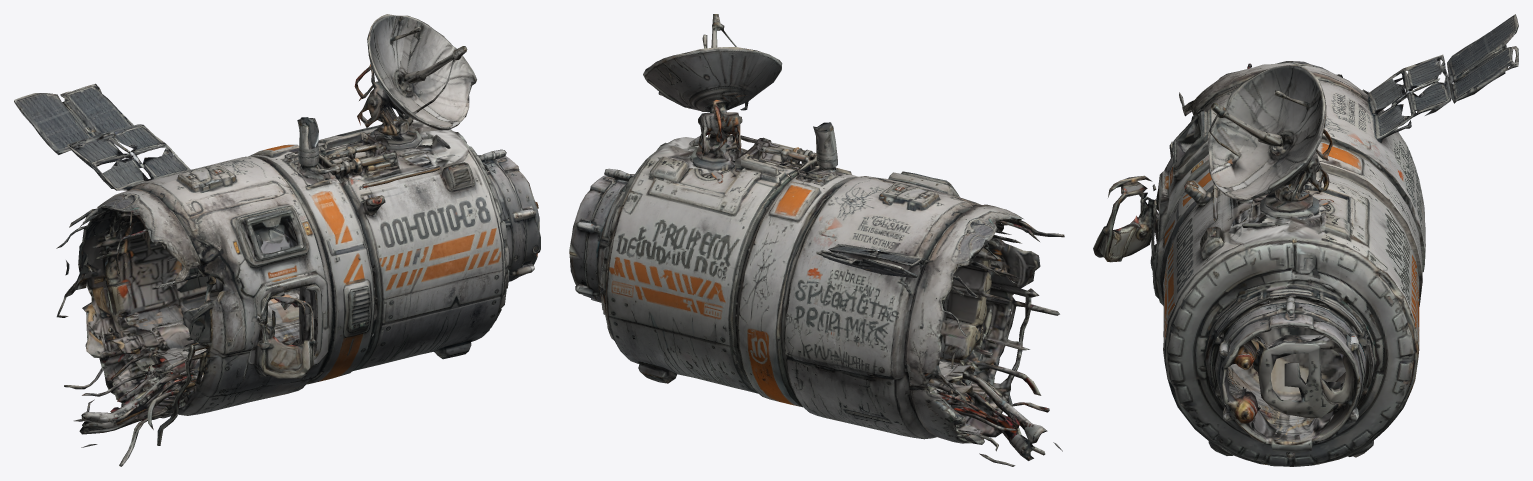
Rendered from StationModule.fbx.
3 renders of one model, left to right at view 1: azimuth 30°, elevation 25°; view 2: azimuth 150°, elevation 25°; view 3: azimuth 270°, elevation 25°, orthographic. The views are drawn at different scales.
Visible parts, largest first — view 1: texture_mapping; view 2: texture_mapping; view 3: texture_mapping.
Part boxes in pixels (x1=…): texture_mapping: x1=14, y1=14, x2=540, y2=466; texture_mapping: x1=569, y1=14, x2=1064, y2=466; texture_mapping: x1=1093, y1=14, x2=1518, y2=466.
Size of the model in its own units: 1.02 by 0.7411 by 0.7658.
1 material, 1 textured.
